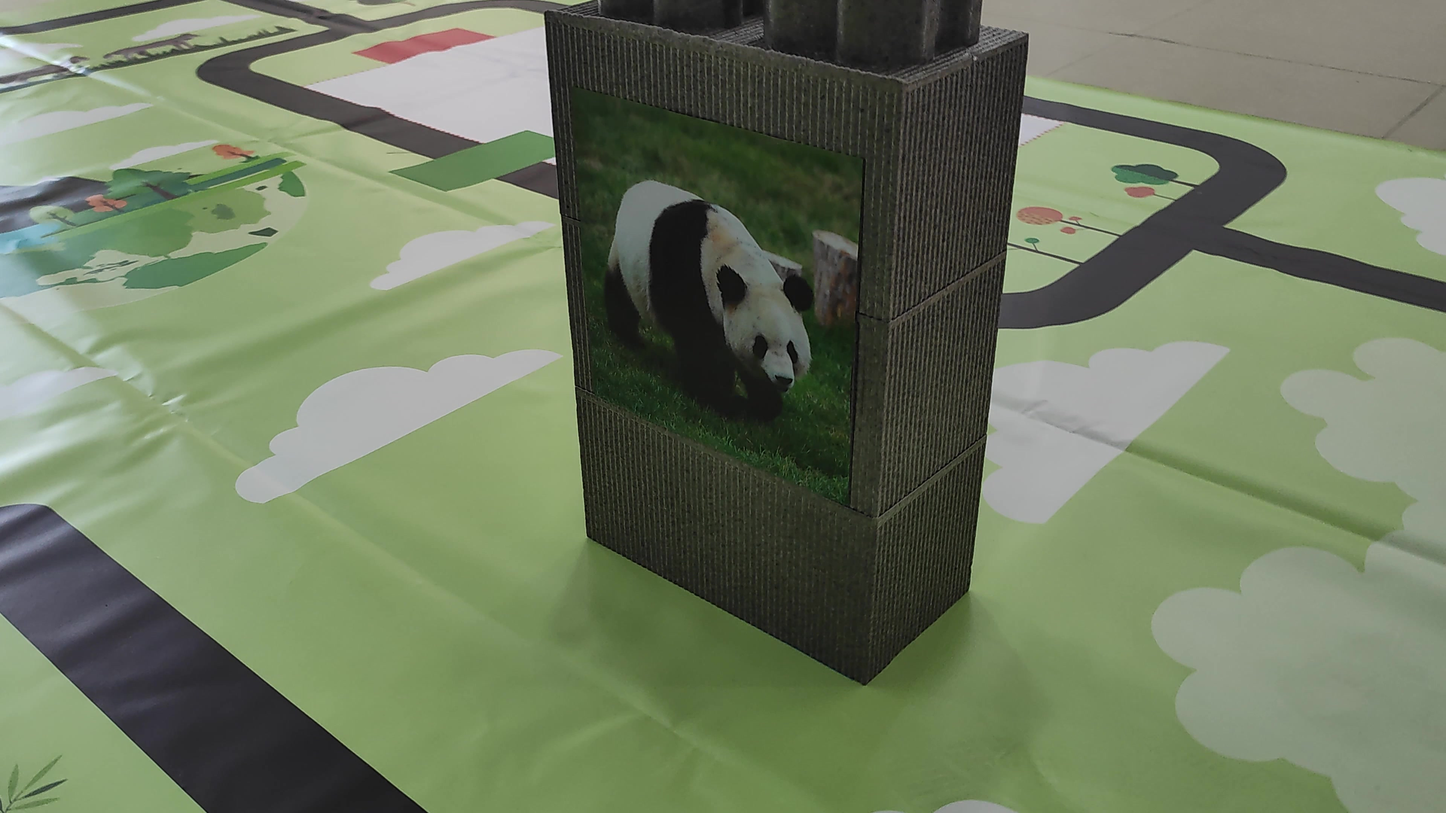panda: (574, 130, 825, 449)
